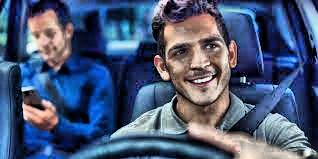seatbelt: (231, 45, 315, 131), (33, 52, 74, 122)
